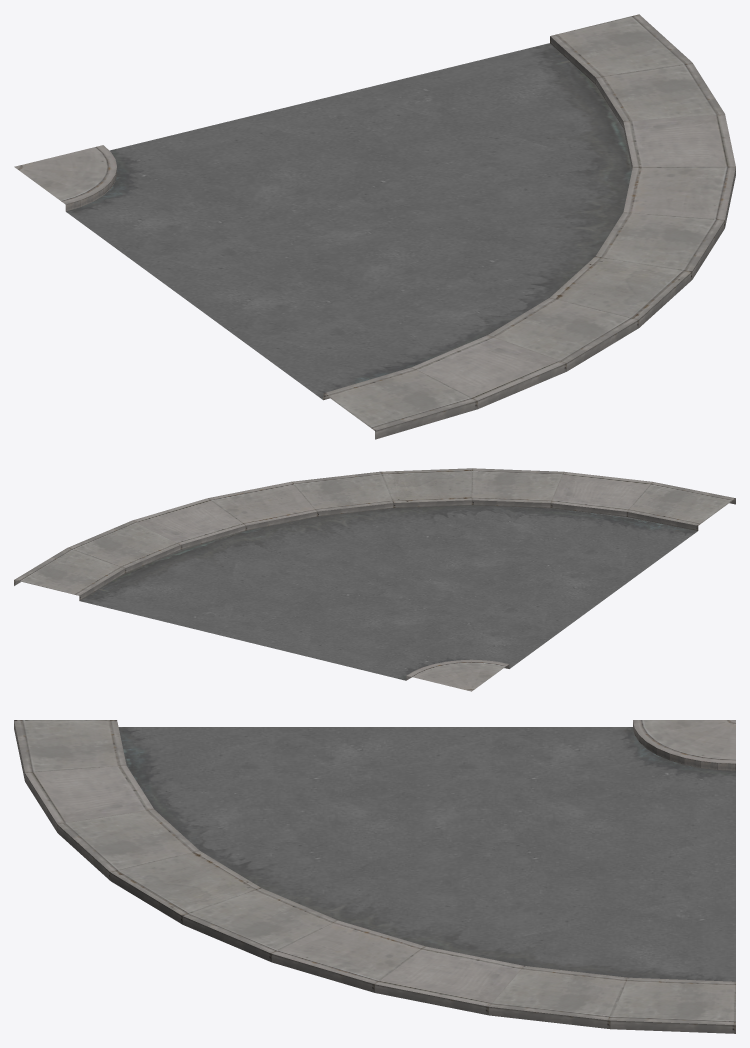
Rendered from Suburbs_road4.fbx.
3 renders of one model, top to bottom at view 1: azimuth 30°, elevation 25°; view 2: azimuth 150°, elevation 25°; view 3: azimuth 270°, elevation 25°, orthographic. The views are drawn at different scales.
Parts seen in each view (by area): view 1: Suburbs_road4; view 2: Suburbs_road4; view 3: Suburbs_road4.
Part boxes in pixels (box(x1,y1,x2,y2)): Suburbs_road4: box(14, 14, 735, 439); Suburbs_road4: box(14, 468, 735, 691); Suburbs_road4: box(14, 720, 735, 1033).
Size of the model in its own units: 1400 by 18.51 by 1400.
